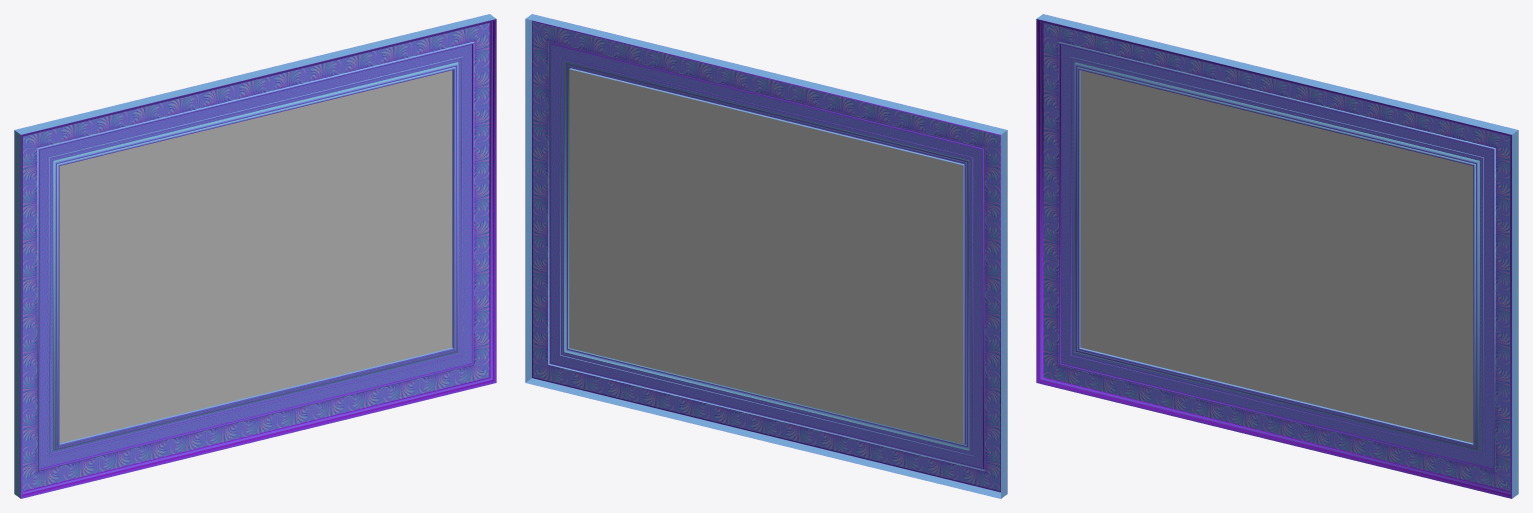
3 renders of one model, left to right at view 1: azimuth 30°, elevation 25°; view 2: azimuth 150°, elevation 25°; view 3: azimuth 330°, elevation 25°, orthographic.
Visible parts, largest first — view 1: _14_19, _14_19_frame; view 2: _14_19, _14_19_frame; view 3: _14_19, _14_19_frame.
Boxes of the visible parts, x1,y1,x2,y2 form: _14_19: (59,70,452,443); _14_19_frame: (14,14,496,498); _14_19: (569,69,963,443); _14_19_frame: (525,14,1007,498); _14_19: (1080,70,1473,443); _14_19_frame: (1036,14,1518,498).
Size of the model in its own units: 175 by 128 by 4.27.
